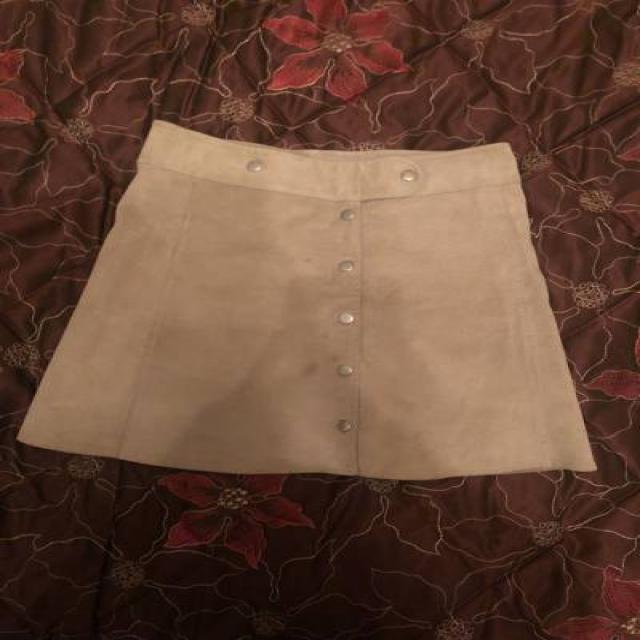Clothes -Biodegradable-: (13, 118, 598, 475)
